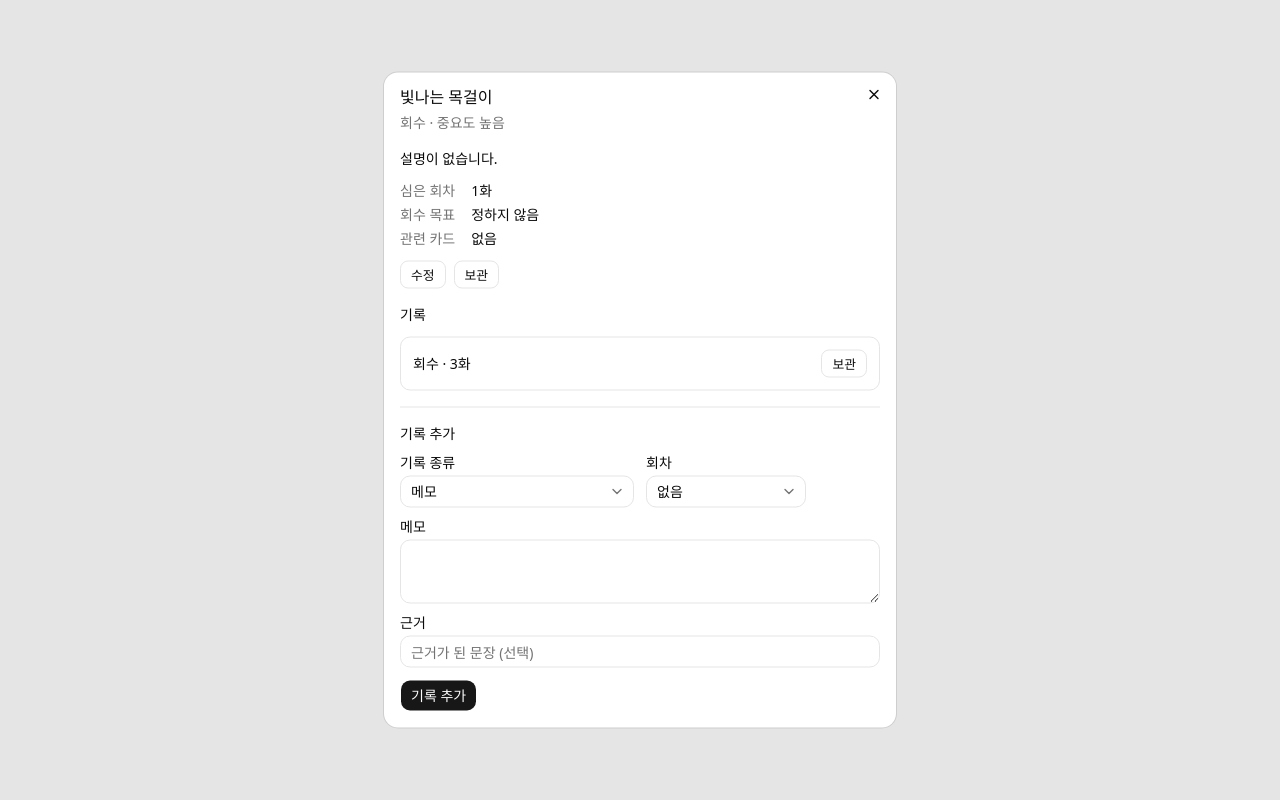
ThreadDetailDialog event archive › explains that the thread status is recomputed from the remaining records
# The event's archive button is the last 보관 button in the dialog (the thread's comes first).
Step 1. Click the button "보관" in the row of "3화" → (844, 364), box [822,350,867,378]
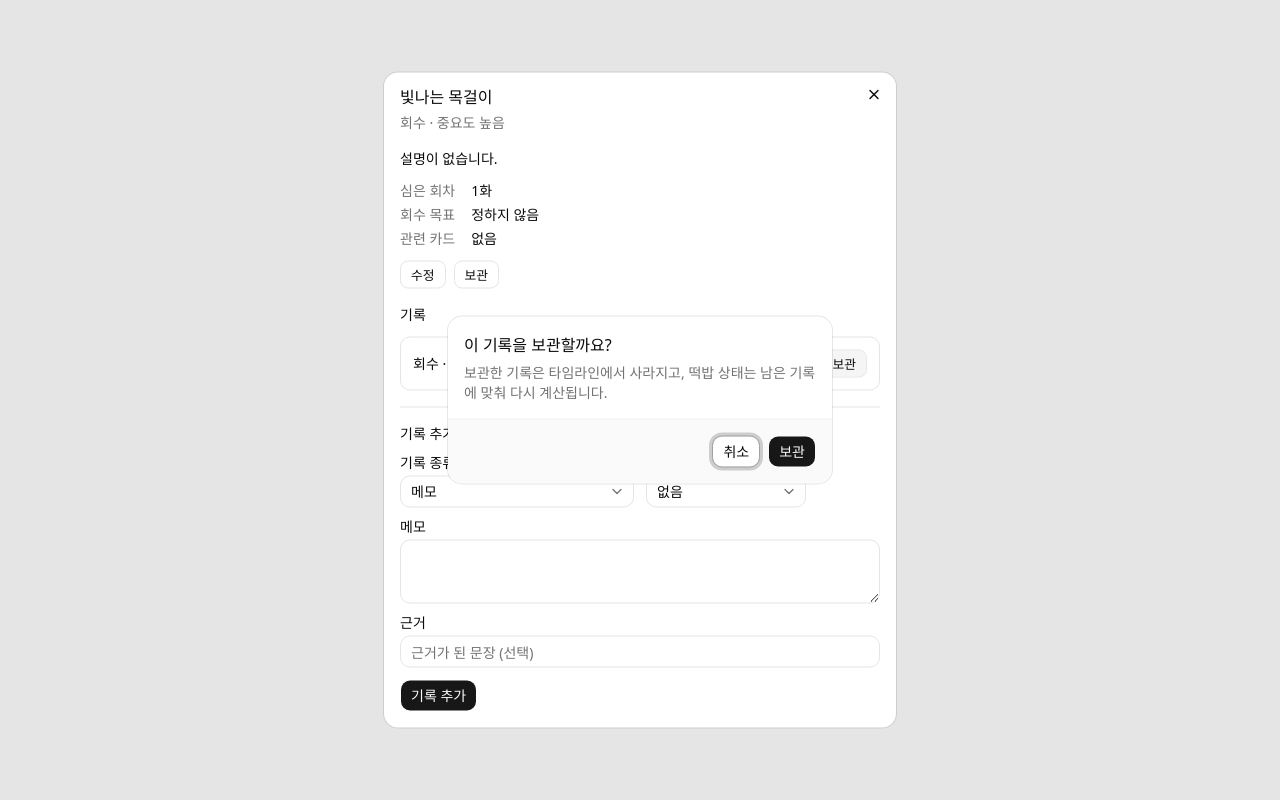
expect the heading "이 기록을 보관할까요?" is shown: met, box [464,332,612,356]
expect the text "보관한 기록은 타임라인에서 사라지고, 떡밥 상태는 남은 기록에 맞춰 다시 계산됩니다." is shown: met, box [464,362,816,402]
